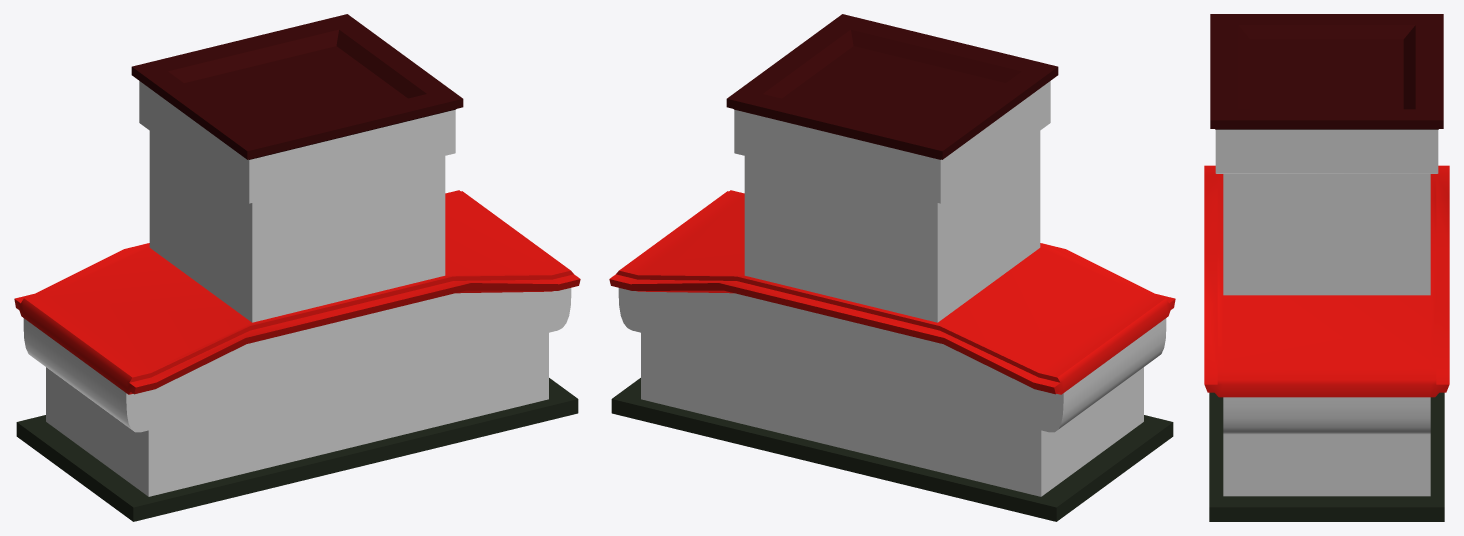
File: Edificio3_x2.FBX
3 views of the same model, side by side, from view 1: azimuth 30°, elevation 25°; view 2: azimuth 150°, elevation 25°; view 3: azimuth 270°, elevation 25° (orthographic).
Parts seen in each view (by area): view 1: Edificio2_x003; view 2: Edificio2_x003; view 3: Edificio2_x003.
Part boxes in pixels (x1,y1,x2,y2): Edificio2_x003: [14, 14, 580, 521]; Edificio2_x003: [609, 14, 1175, 521]; Edificio2_x003: [1204, 14, 1449, 521].
Size of the model in its own units: 705 by 519 by 333.
